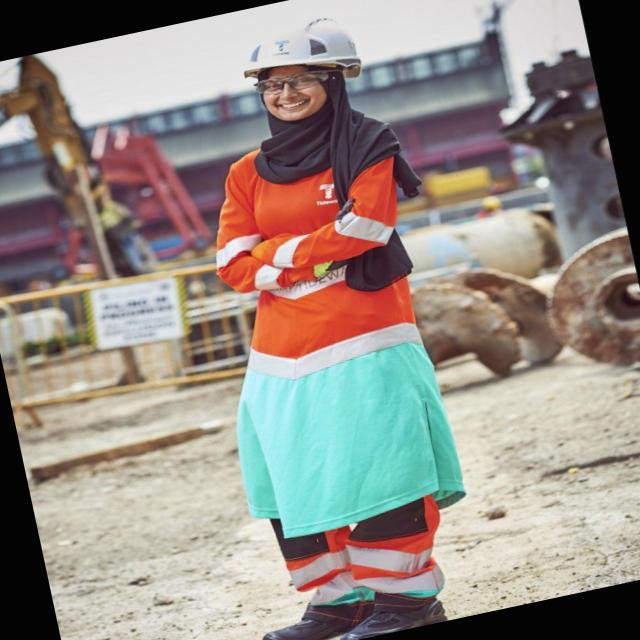goggles: (227, 51, 360, 110)
helmet: (212, 0, 373, 97)
no-vest: (199, 106, 436, 354)
